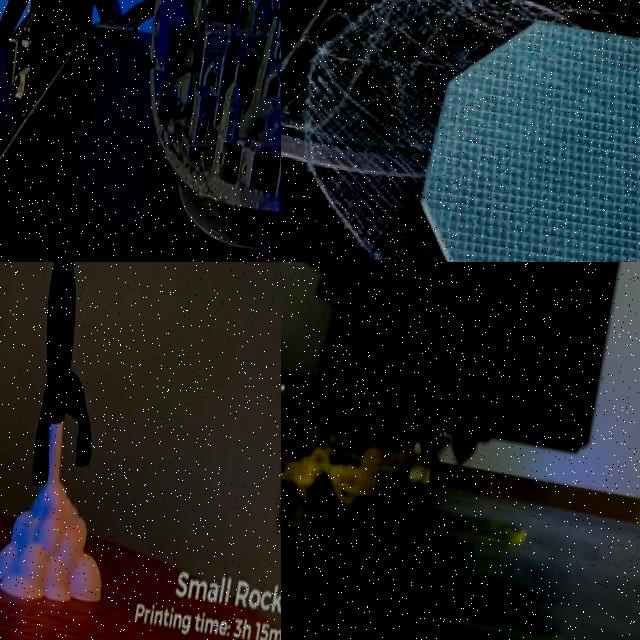spaghetti: (281, 432, 430, 506)
